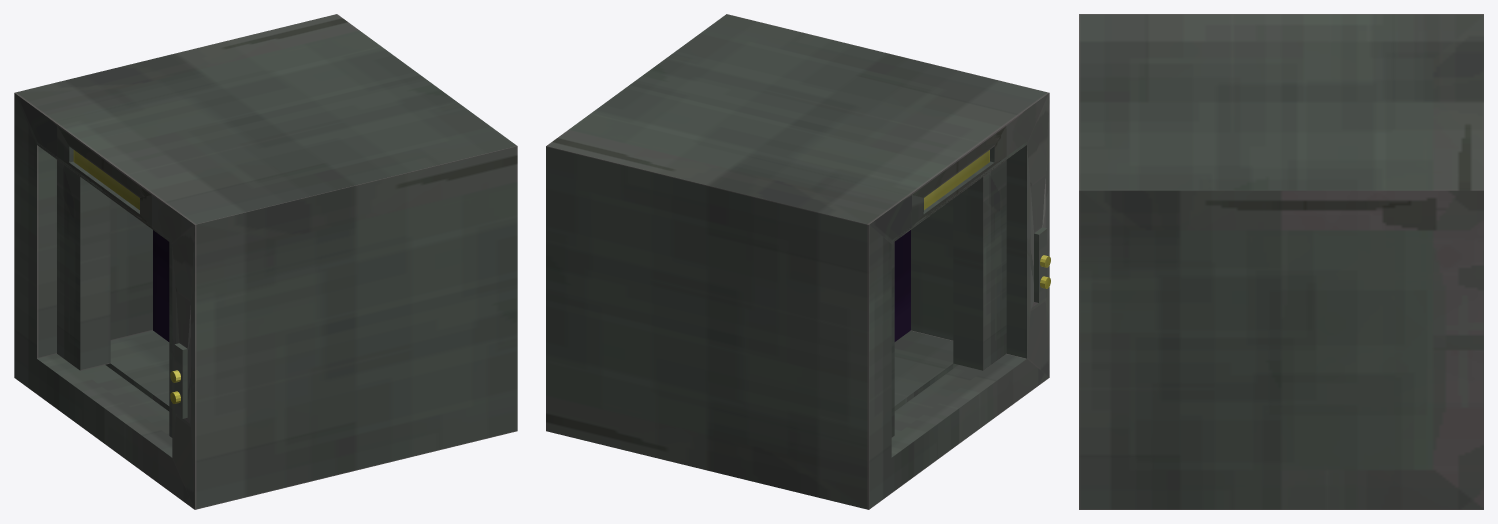
Rendered from Elevator_Model.fbx.
3 views of the same model, side by side, from view 1: azimuth 30°, elevation 25°; view 2: azimuth 150°, elevation 25°; view 3: azimuth 270°, elevation 25° (orthographic). The views are drawn at different scales.
Parts seen in each view (by area): view 1: Elevator, cuboid_2, cuboid; view 2: Elevator, cuboid_2, cuboid; view 3: Elevator.
Boxes of the visible parts, x1,y1,x2,y2 form: Elevator: (14, 14, 517, 509); cuboid_2: (153, 230, 169, 341); cuboid: (73, 150, 139, 209); Elevator: (546, 14, 1049, 509); cuboid_2: (894, 230, 910, 341); cuboid: (924, 150, 989, 209); Elevator: (1079, 14, 1483, 509).
Size of the model in its own units: 103 by 84.38 by 96.88.
Materials: 3 (3 with a texture image).
